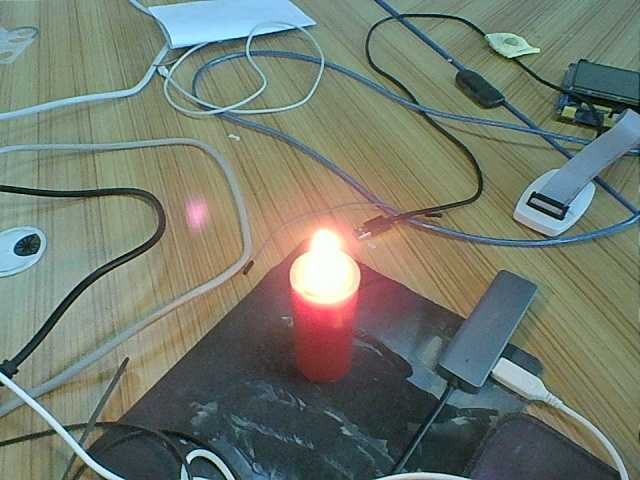candle: (287, 295, 360, 383)
fire: (287, 227, 357, 293)
